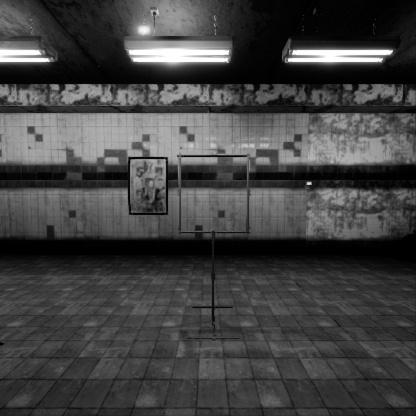gate: (178, 182, 256, 262)
